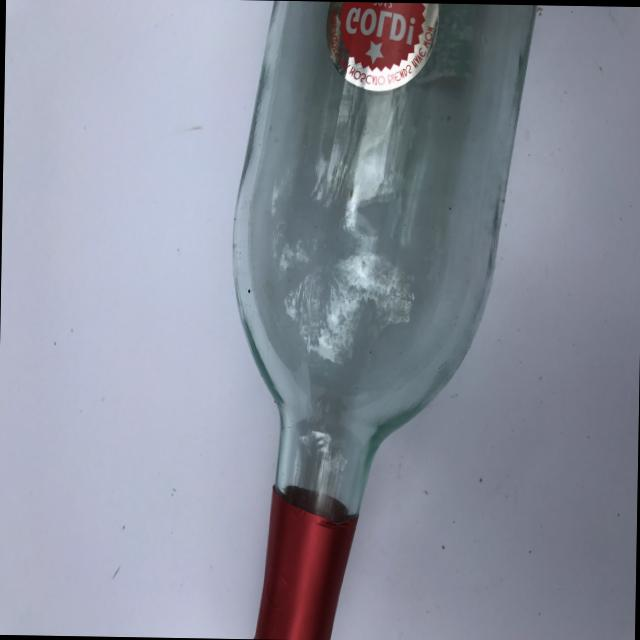Glass: (210, 1, 561, 640)
